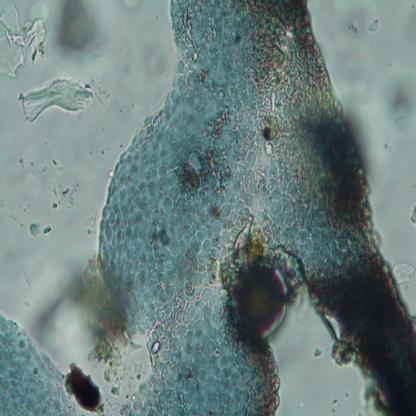Background material: (365, 58, 416, 136), (0, 3, 49, 75), (16, 79, 95, 121), (54, 0, 94, 62), (64, 360, 106, 411), (50, 152, 80, 212), (26, 210, 58, 244), (392, 256, 416, 289), (365, 14, 379, 38), (410, 196, 416, 226), (315, 345, 322, 360)
Diatom: (231, 260, 291, 346)
